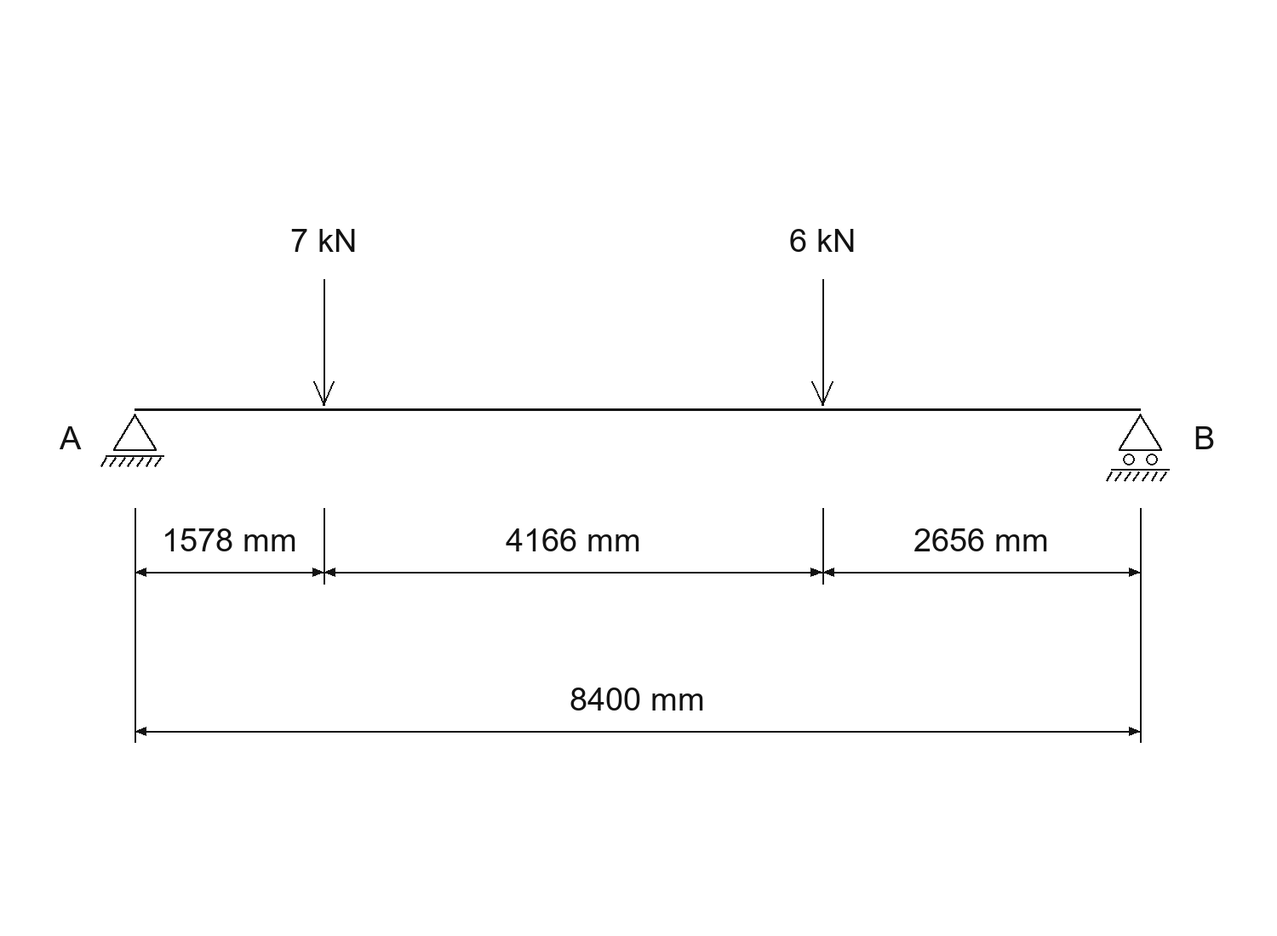pin_support: (100, 414, 164, 467)
point_load: (313, 279, 335, 406), (811, 279, 833, 406)
roller_support: (1106, 414, 1170, 482)
